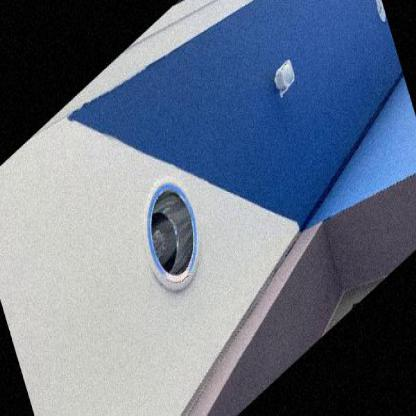light_off: (120, 134, 216, 317)
